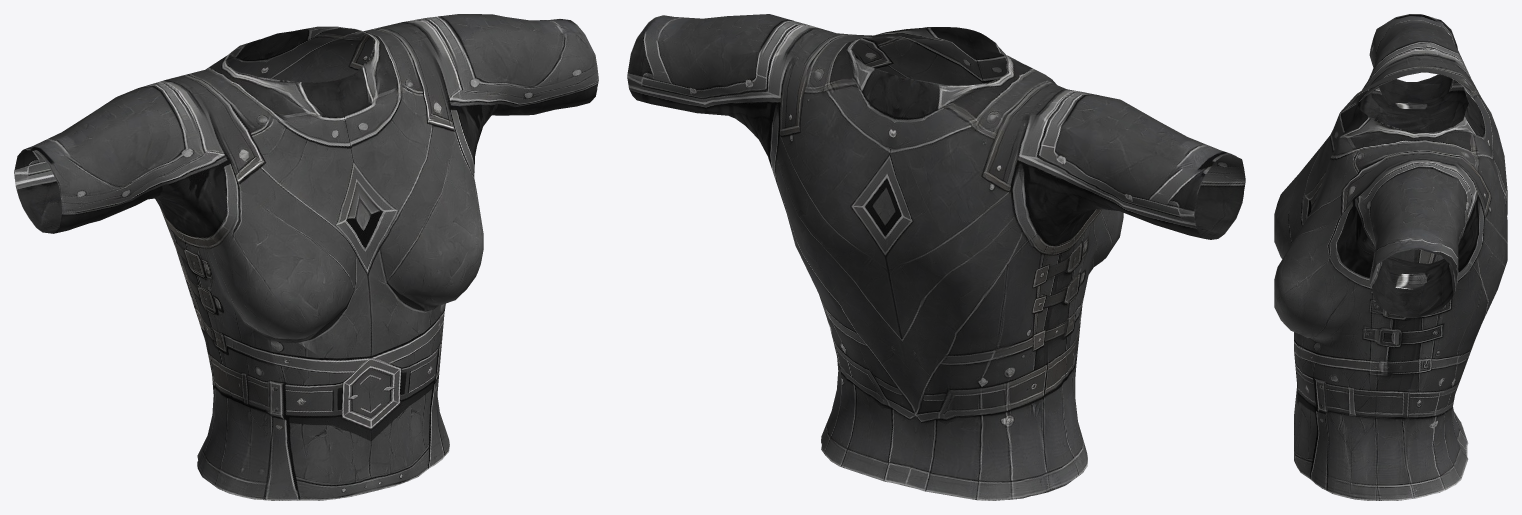
Rendered from SteelPlatebody.glb.
3 renders of one model, left to right at view 1: azimuth 30°, elevation 25°; view 2: azimuth 150°, elevation 25°; view 3: azimuth 270°, elevation 25°, orthographic. The views are drawn at different scales.
Size of the model in its own units: 2 by 1.38 by 0.837.
Materials: 1 (1 with a texture image).
